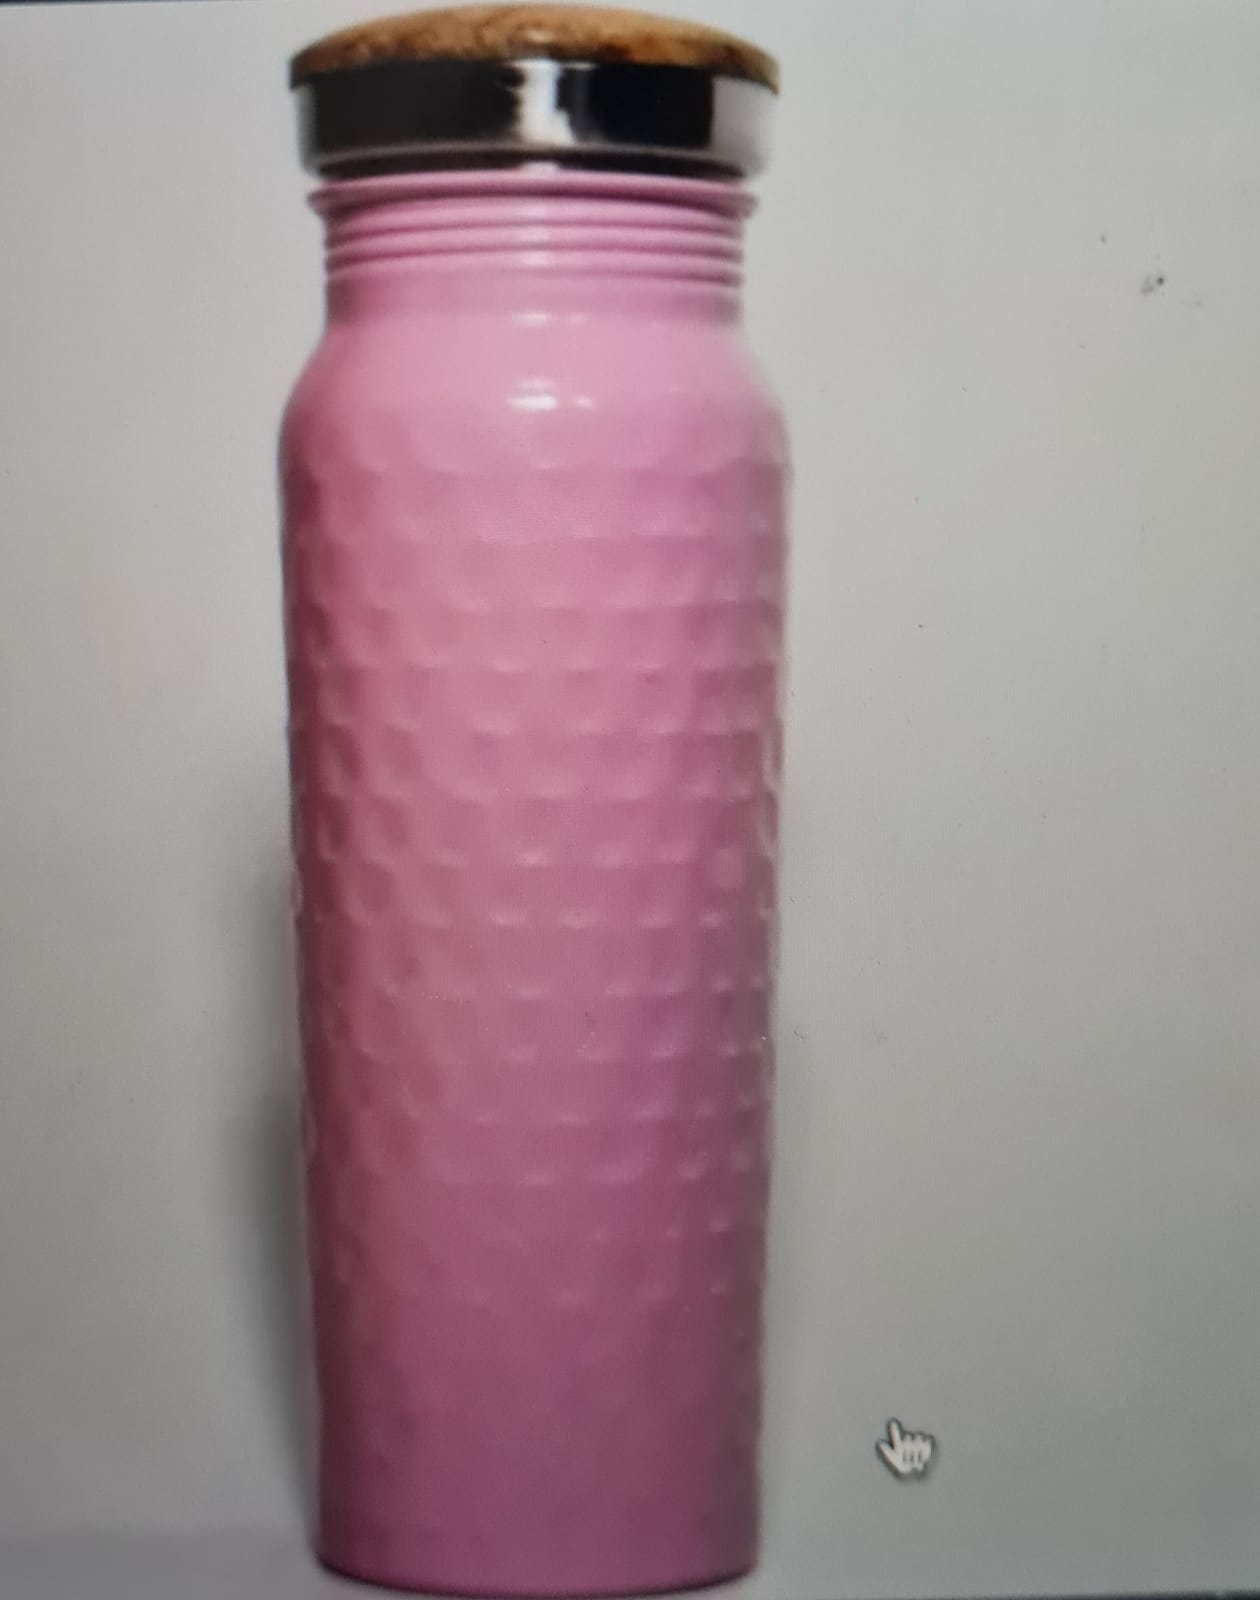bottle: (260, 25, 847, 1600)
